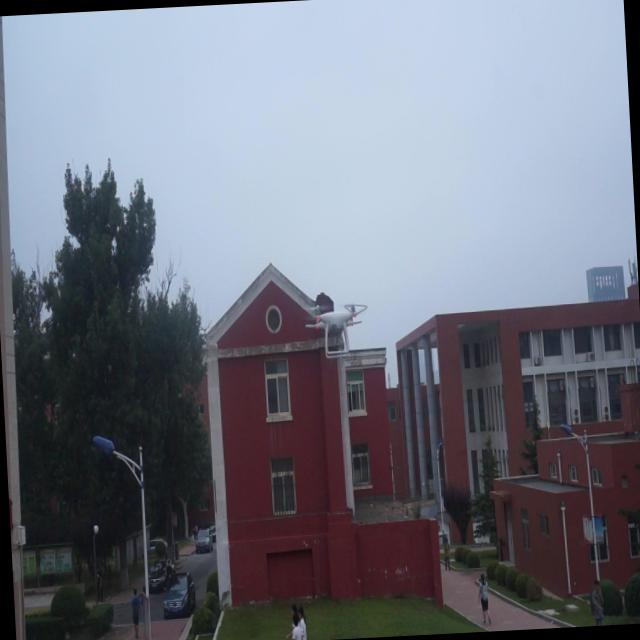drone: (304, 298, 372, 362)
